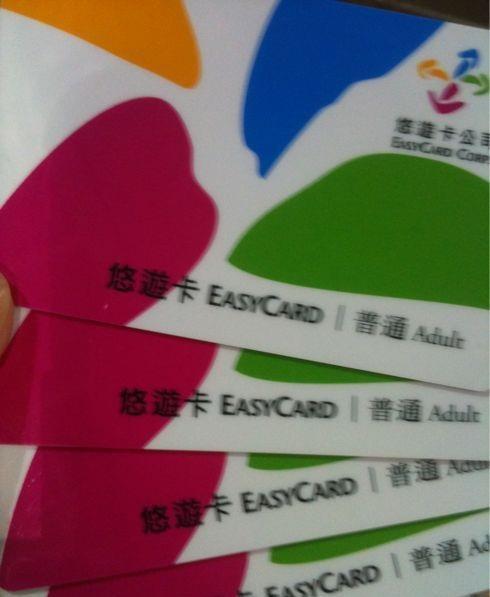Taiwan_EasyCard: (2, 1, 487, 388)
